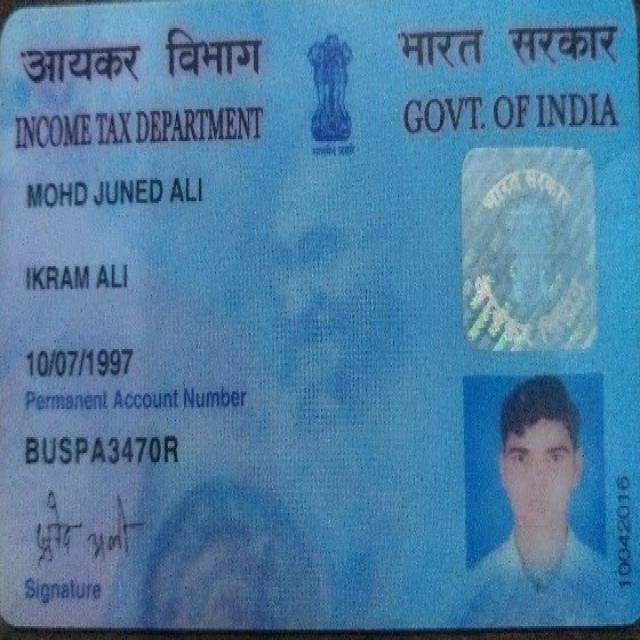pan_card: (3, 5, 637, 626)
